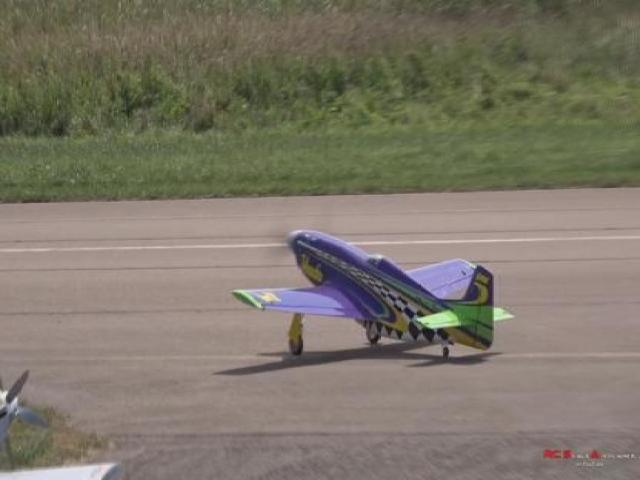uav: (222, 223, 520, 372)
